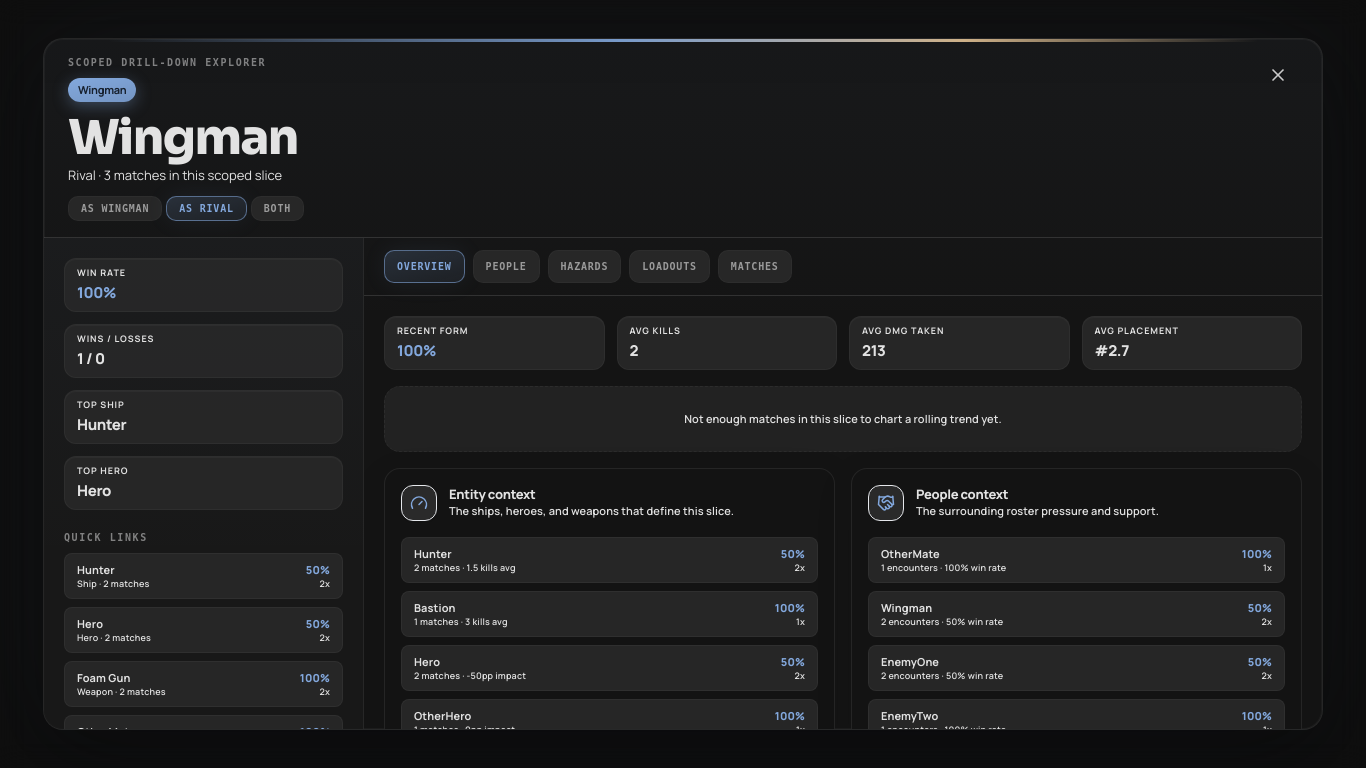
Test case: DrillDownOverlay › keeps full encounter scope while opponent profiles use opponent-only outcome math
Click the button "Matches": [755, 267] box [718,250,792,283]
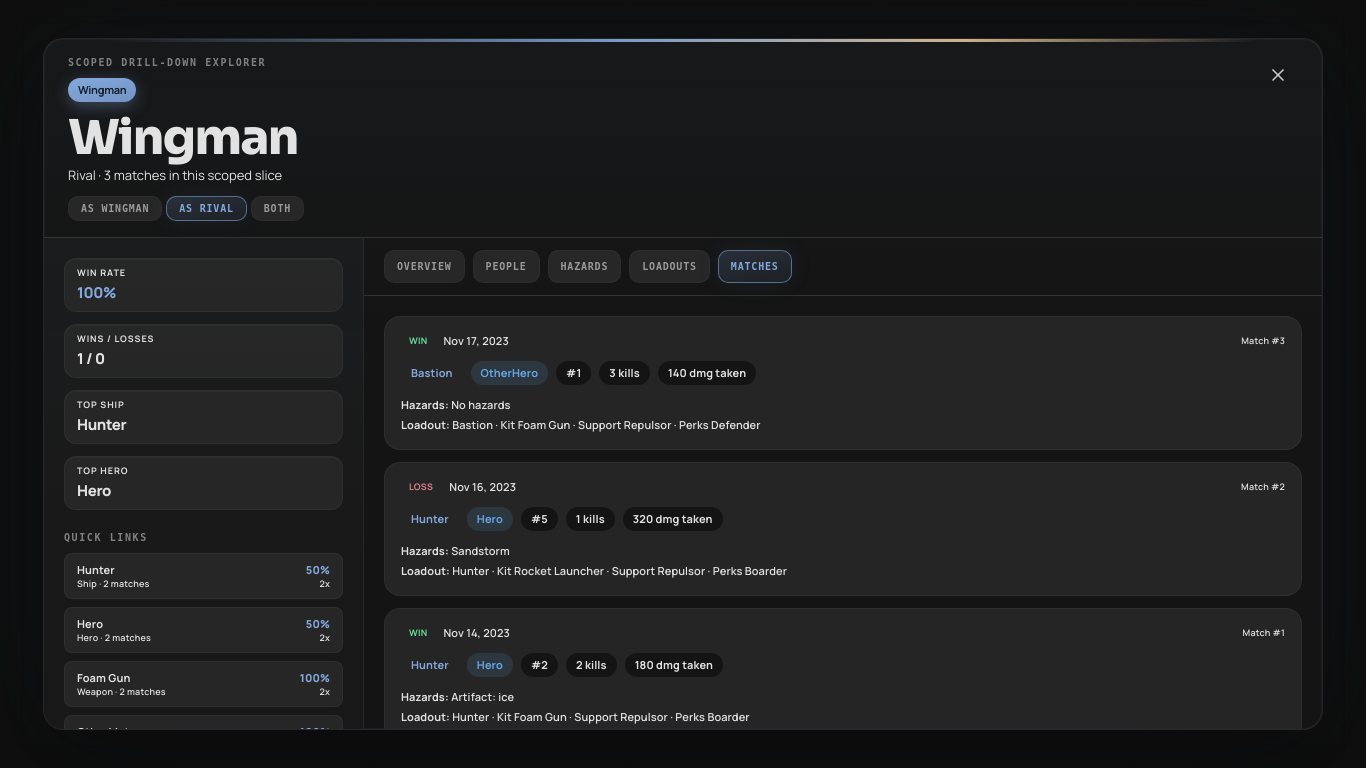
Expected: the text "Match #1" is shown, [1243,627,1285,639]
Expected: the text "Match #2" is shown, [1241,481,1285,493]
Expected: the text "Match #3" is shown, [1241,335,1285,347]
